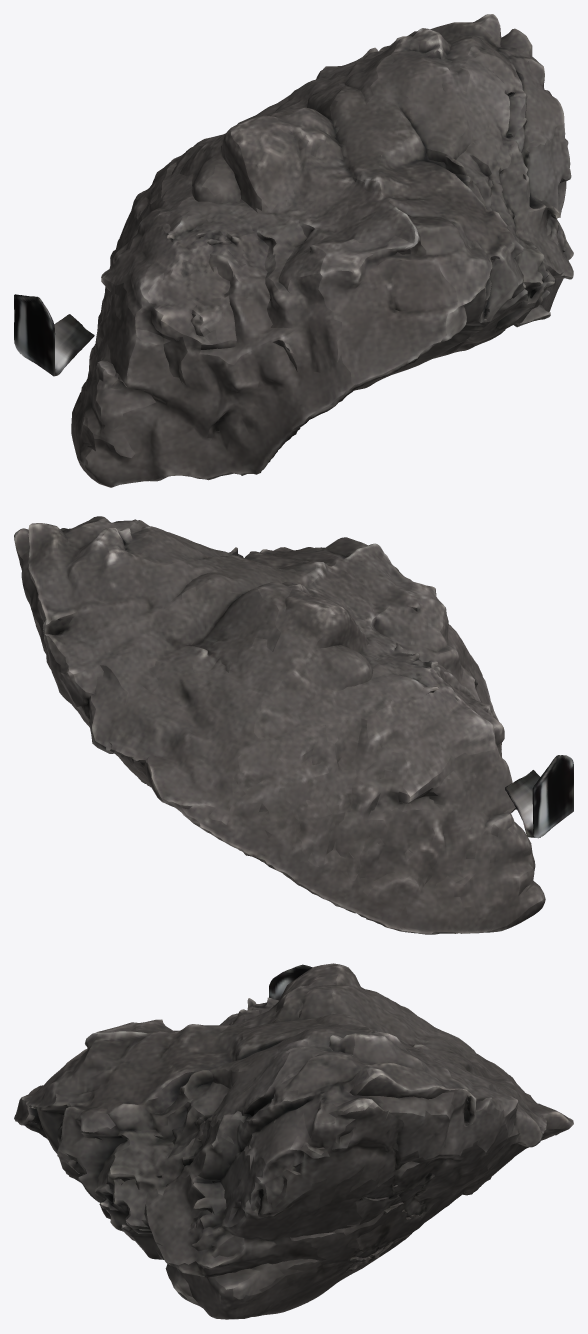
3 views of the same model, one above another, from view 1: azimuth 30°, elevation 25°; view 2: azimuth 150°, elevation 25°; view 3: azimuth 270°, elevation 25° (orthographic). The views are drawn at different scales.
Parts seen in each view (by area): view 1: world; view 2: world; view 3: world.
Part boxes in pixels (x1,y1,x2,y2): world: (14,14,573,487); world: (14,516,573,934); world: (14,963,573,1319).
Bounding box in the file's own units: 2.5 × 1.51 × 2.2.
1 material, 1 textured.
